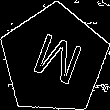M_S: (25, 28, 84, 92)
